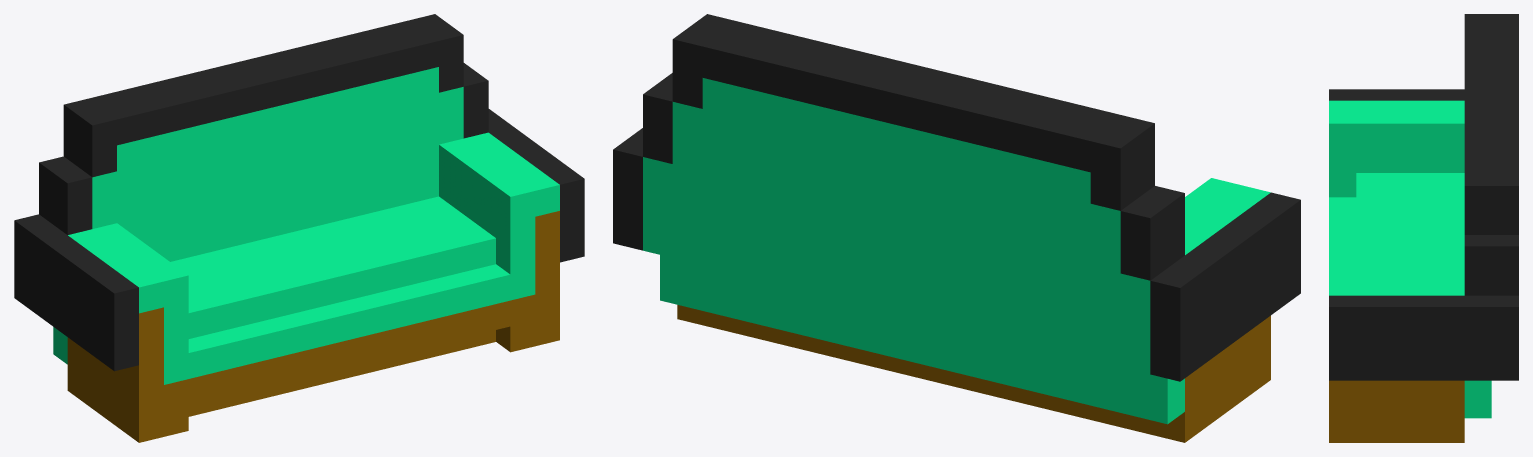
File: barber furnitures-0.obj
The picture shows the model from 3 angles, left to right: view 1: azimuth 30°, elevation 25°; view 2: azimuth 150°, elevation 25°; view 3: azimuth 270°, elevation 25°; orthographic projection. The views are drawn at different scales.
Visible parts, largest first — view 1: barber furnitures-0; view 2: barber furnitures-0; view 3: barber furnitures-0.
Boxes of the visible parts, x1,y1,x2,y2 form: barber furnitures-0: [14, 14, 584, 442]; barber furnitures-0: [613, 14, 1300, 442]; barber furnitures-0: [1329, 14, 1518, 442].
Size of the model in its own units: 19 by 10 by 7.
1 material, 1 textured.
